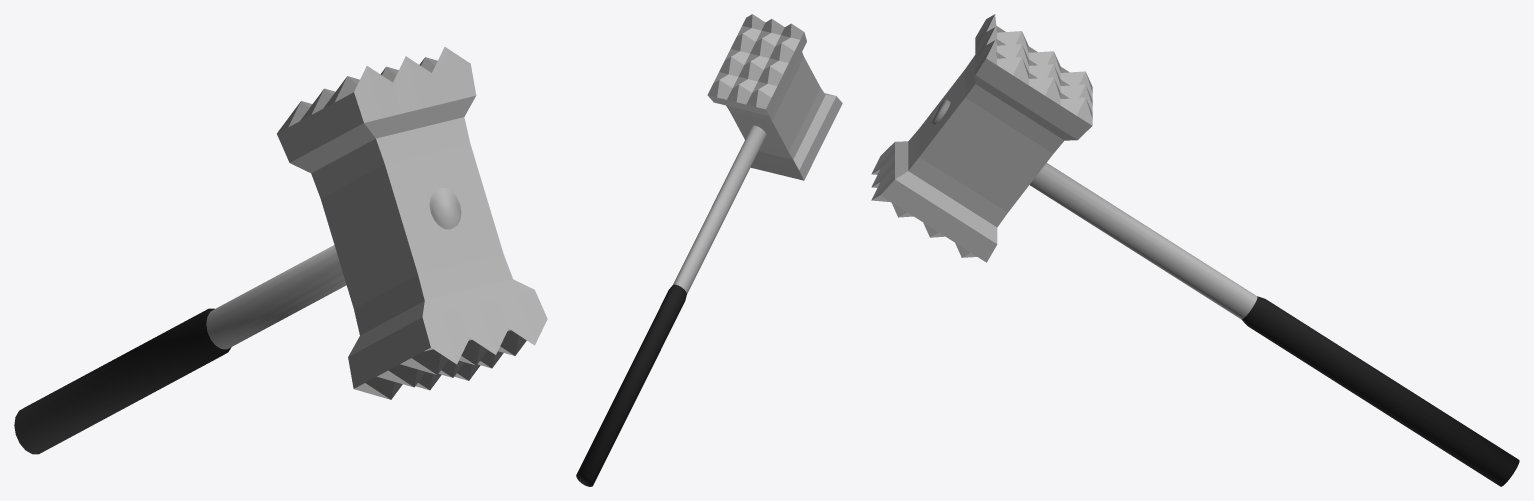
The model's file is Smasher.fbx.
3 renders of one model, left to right at view 1: azimuth 30°, elevation 25°; view 2: azimuth 150°, elevation 25°; view 3: azimuth 270°, elevation 25°, orthographic. The views are drawn at different scales.
Parts seen in each view (by area): view 1: Smasher.001; view 2: Smasher.001; view 3: Smasher.001.
Boxes of the visible parts, x1=… form: Smasher.001: x1=14, y1=47, x2=547, y2=454; Smasher.001: x1=576, y1=14, x2=842, y2=486; Smasher.001: x1=871, y1=14, x2=1519, y2=486.
Bounding box in the file's own units: 120 × 653 × 836.
Materials: 1 (1 with a texture image).
